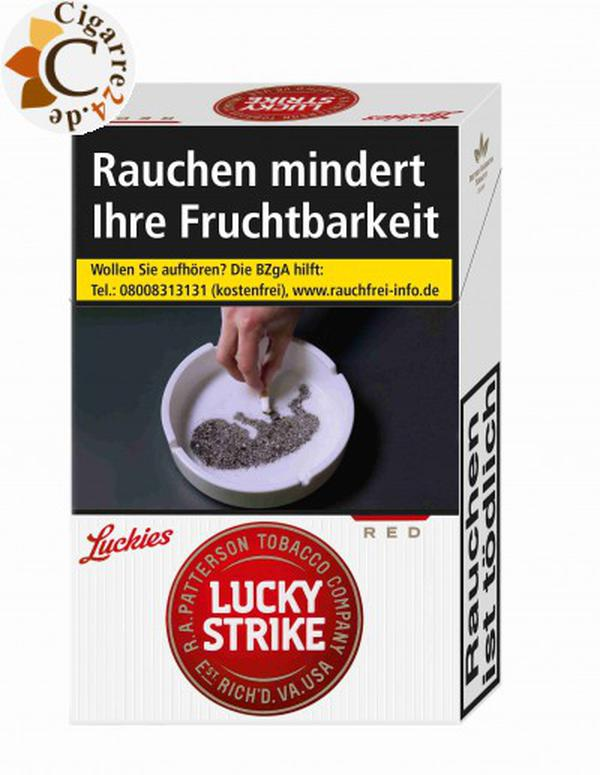lucky_strike_red: (79, 130, 459, 725)
